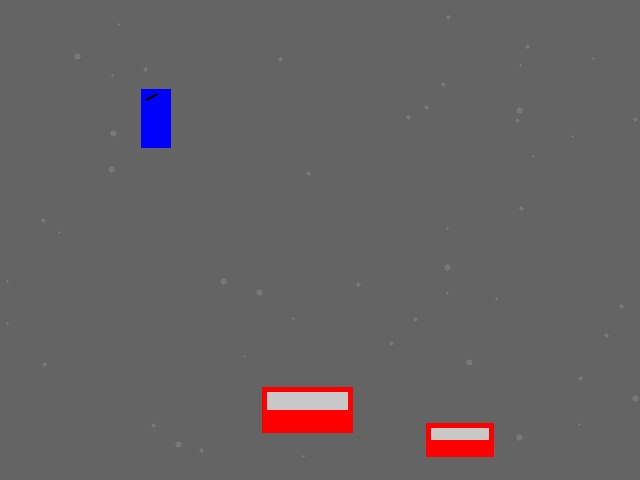car: (262, 387, 352, 432), (426, 423, 493, 456)
motorcycle: (141, 89, 170, 147)
